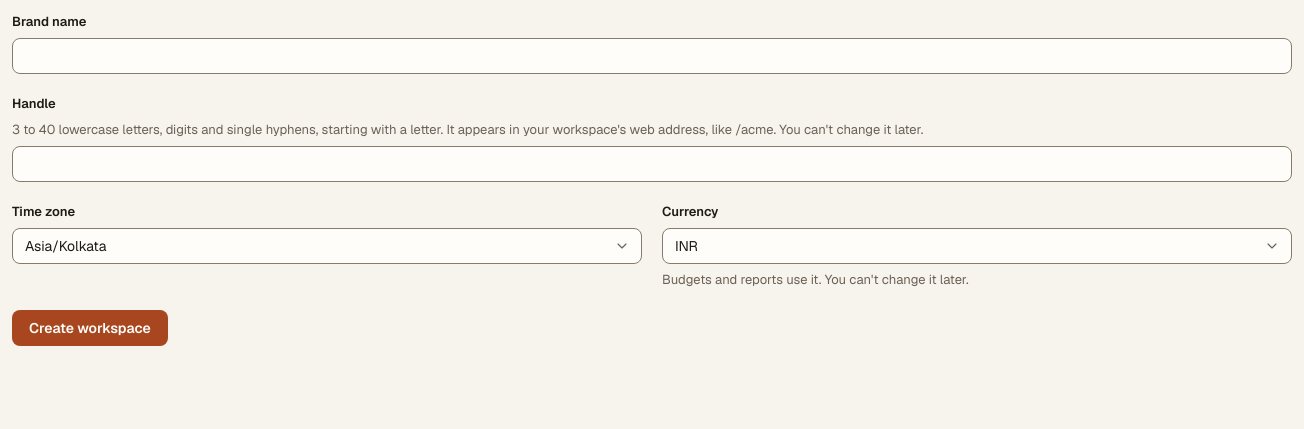
Test: marks a select invalid when the core rejects its value
This screenshot has width=1304, height=429.
Type "Acme Shoes" into the field labelled "Brand name".
click(652, 56); type("Acme Shoes")  # box [12,38,1292,74]
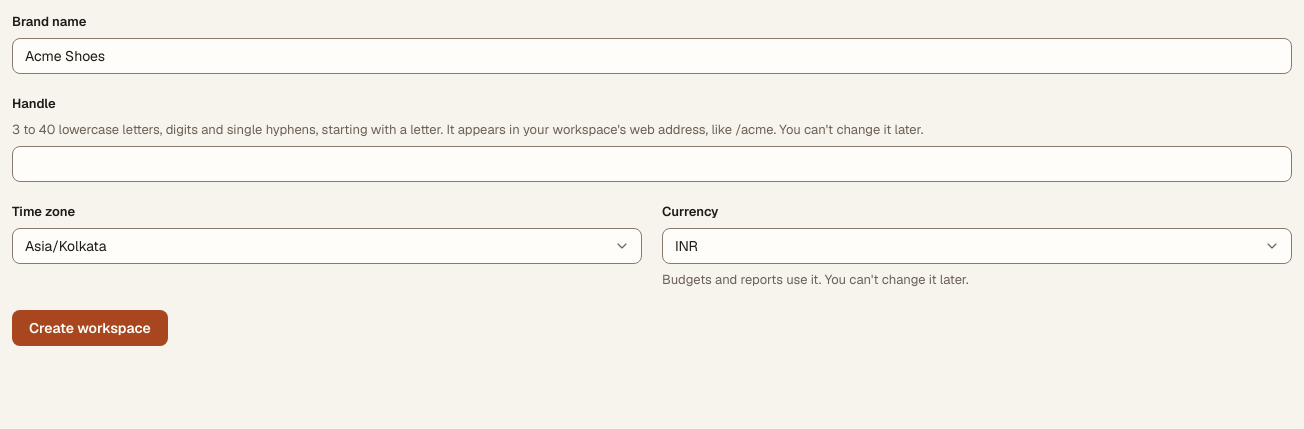
Type "acme" into the field labelled "Handle".
click(652, 164); type("acme")  # box [12,146,1292,182]
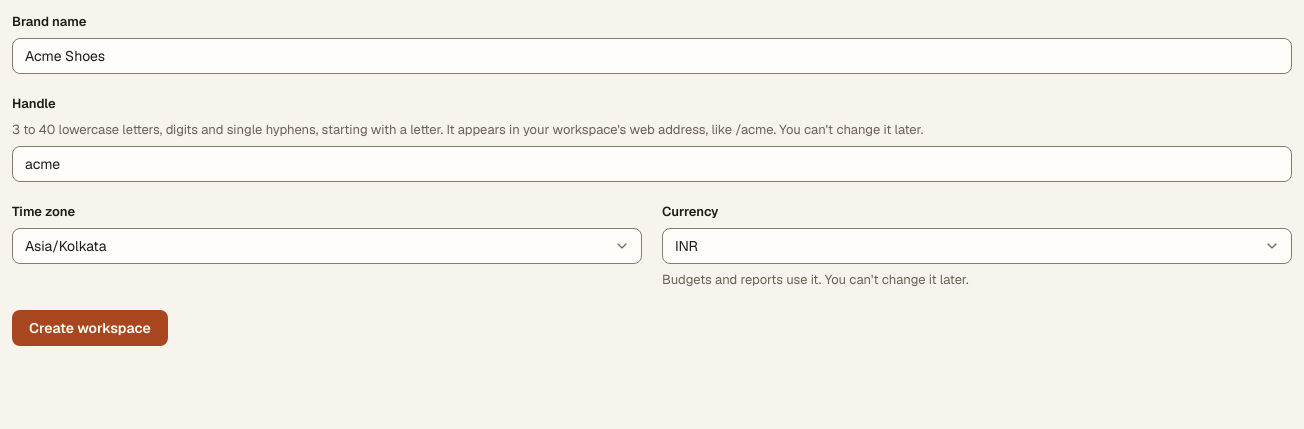
Click the button "Create workspace".
click(90, 328)  # box [12,310,168,346]
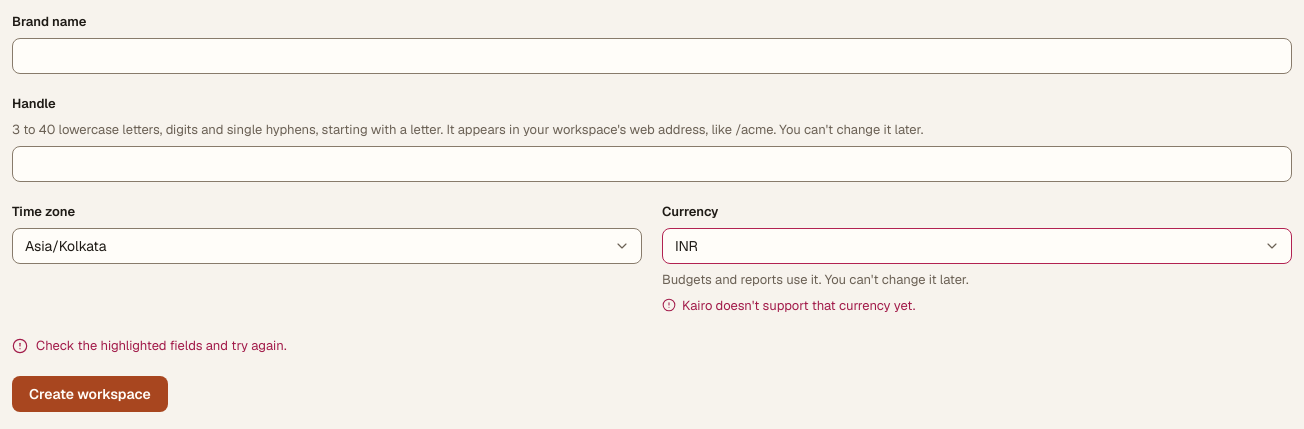
Now the text "Kairo doesn't support that currency yet." is shown, box [682,296,915,316]
